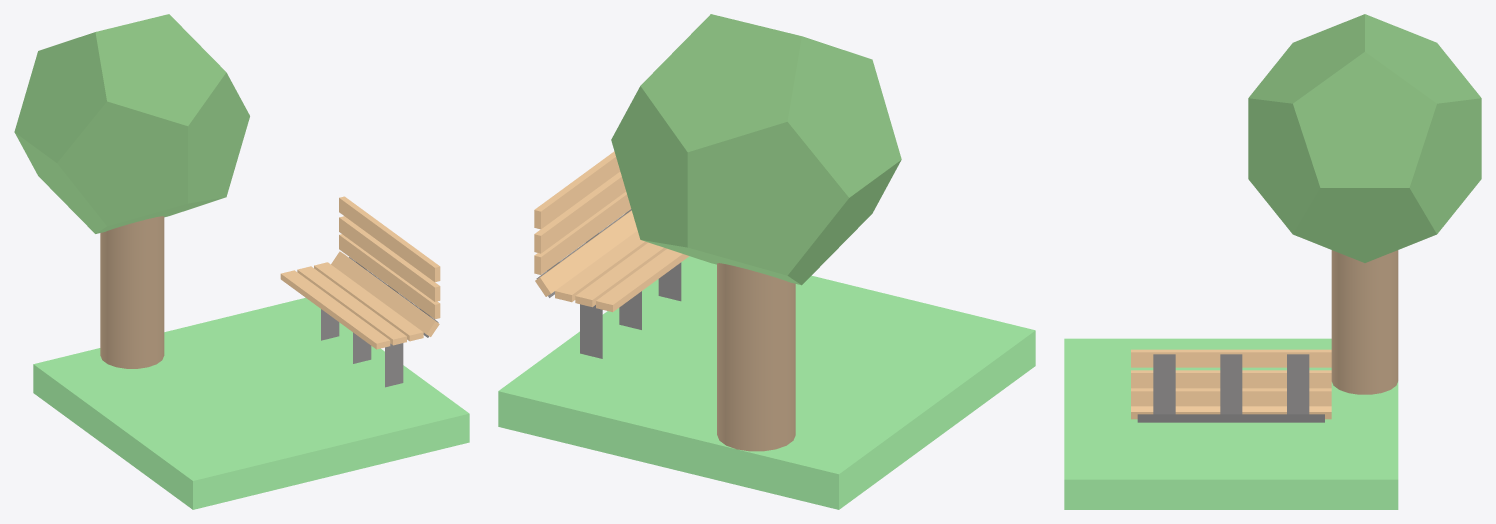
The model's file is tree.gltf.
3 renders of one model, left to right at view 1: azimuth 30°, elevation 25°; view 2: azimuth 150°, elevation 25°; view 3: azimuth 270°, elevation 25°, orthographic. The views are drawn at different scales.
Visible parts, largest first — view 1: Box (×8), Dodecahedron, Cylinder, Plane; view 2: Box (×8), Dodecahedron, Cylinder, Plane (×3); view 3: Box (×5), Dodecahedron, Cylinder, Plane (×4).
Boxes of the visible parts, left/top/right/bottom form: Box (×8): left=33, top=196, right=469, bottom=509; Dodecahedron: left=14, top=14, right=249, bottom=233; Cylinder: left=100, top=216, right=164, bottom=368; Plane: left=385, top=343, right=403, bottom=387; Box (×8): left=498, top=151, right=1035, bottom=509; Dodecahedron: left=611, top=14, right=901, bottom=285; Cylinder: left=717, top=263, right=795, bottom=451; Plane (×3): left=580, top=262, right=681, bottom=358; Box (×5): left=1064, top=338, right=1398, bottom=509; Dodecahedron: left=1248, top=14, right=1481, bottom=262; Cylinder: left=1331, top=250, right=1398, bottom=394; Plane (×4): left=1137, top=354, right=1324, bottom=422.
Size of the model in its own units: 5.32 by 6.25 by 6.25.
